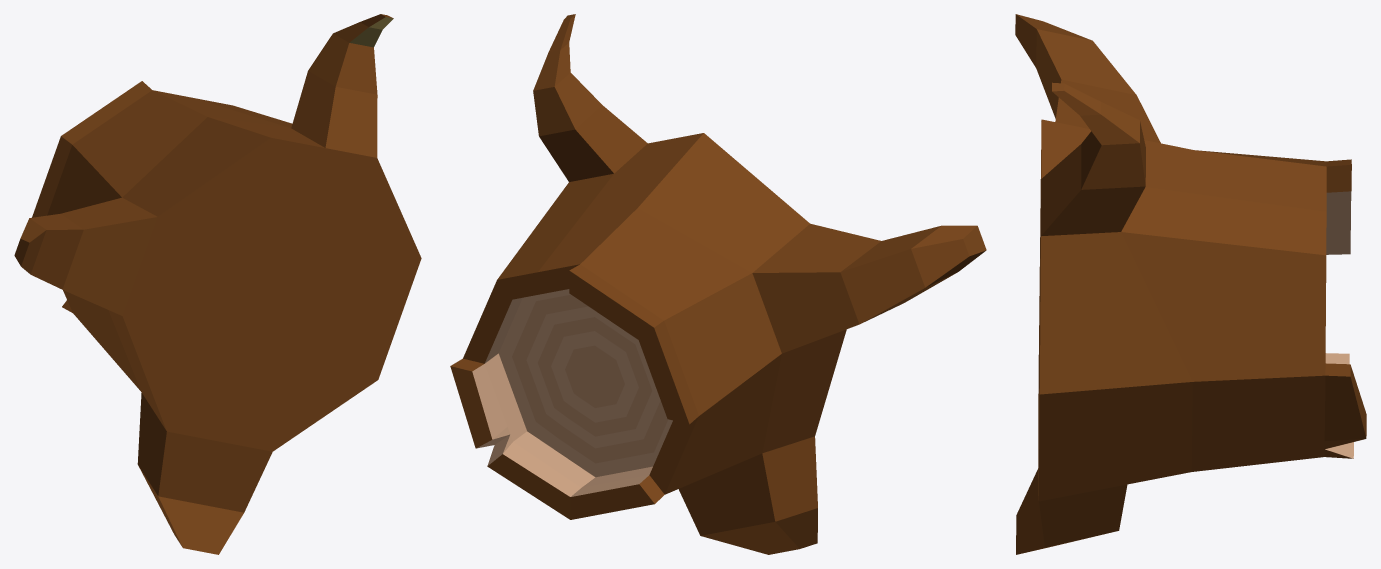
Rendered from tree_stump2.fbx.
The picture shows the model from 3 angles, left to right: view 1: azimuth 30°, elevation 25°; view 2: azimuth 150°, elevation 25°; view 3: azimuth 270°, elevation 25°; orthographic projection. The views are drawn at different scales.
Parts seen in each view (by area): view 1: Tree_Stump; view 2: Tree_Stump; view 3: Tree_Stump.
Boxes of the visible parts, <box> form: Tree_Stump: <box>14,14,421,554</box>; Tree_Stump: <box>450,14,986,554</box>; Tree_Stump: <box>1015,14,1366,554</box>.
Size of the model in its own units: 205 by 230 by 127.
Materials: 1 (1 with a texture image).
